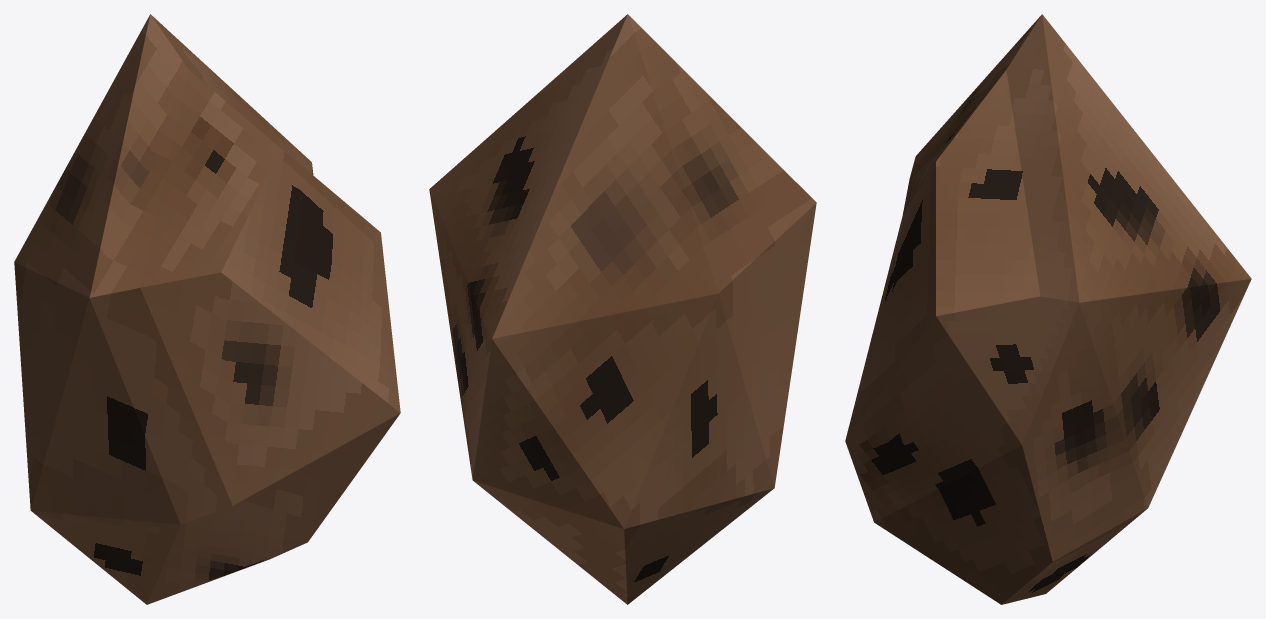
The model's file is Piedra 2.fbx.
The picture shows the model from 3 angles, left to right: view 1: azimuth 30°, elevation 25°; view 2: azimuth 150°, elevation 25°; view 3: azimuth 270°, elevation 25°; orthographic projection.
Parts seen in each view (by area): view 1: Icosphere; view 2: Icosphere; view 3: Icosphere.
Boxes of the visible parts, box(x1,y1,x2,y2) form: Icosphere: box(14, 14, 400, 604); Icosphere: box(429, 14, 816, 604); Icosphere: box(845, 14, 1251, 604).
Size of the model in its own units: 160 by 289 by 183.
1 material, 1 textured.
